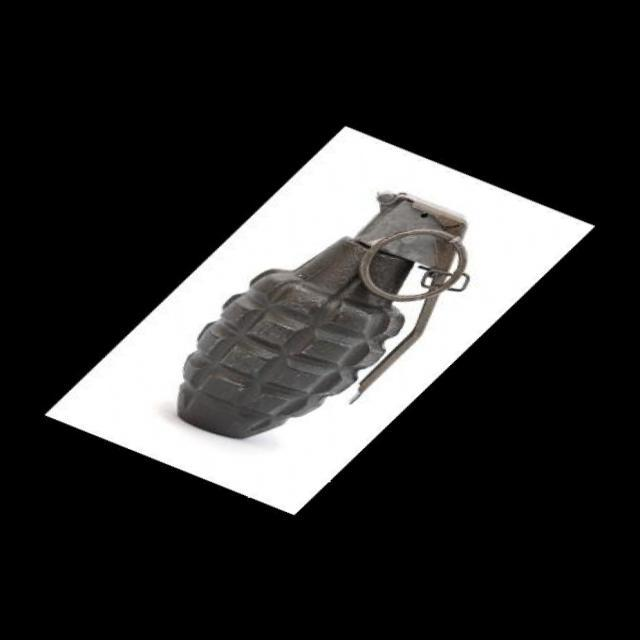grenade: (120, 172, 514, 454)
